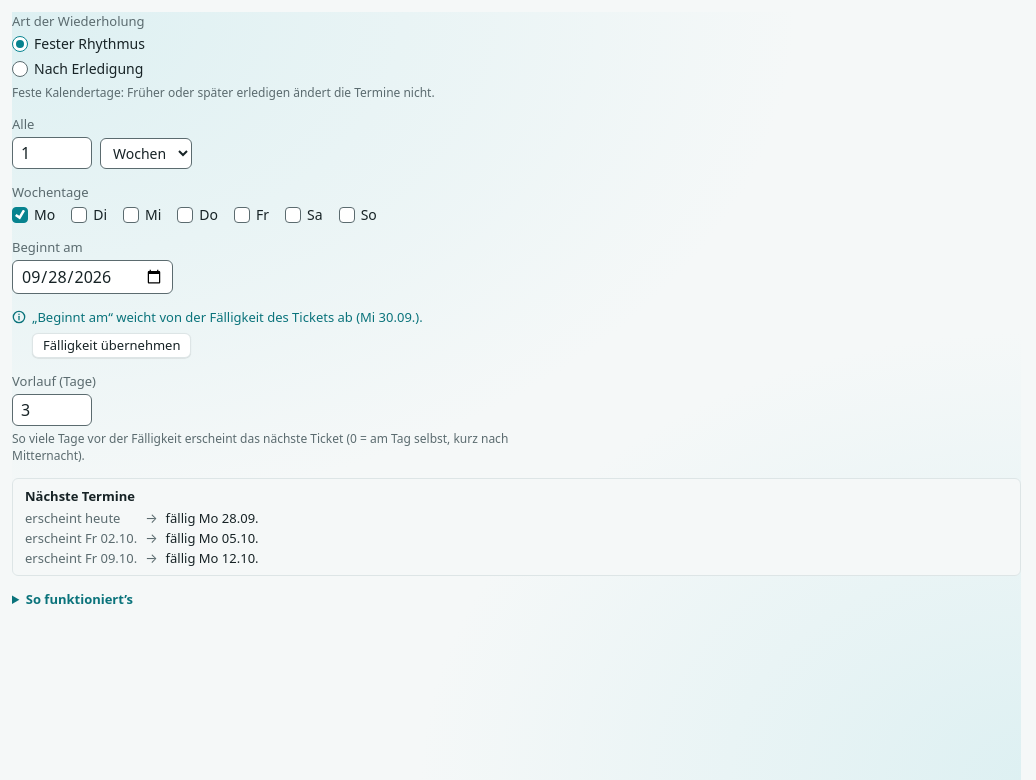
Test: RecurrenceForm: preview from the due date of the ticket (RV-1) › offers nothing after completion at a ticket, where "Beginnt am" is hidden
Expected: the button "Fälligkeit übernehmen" is shown, [32, 333, 192, 358]
What coordinates should you click on to do the following:
click the radio button labelled "Nach Erledigung"
I would click on:
 (20, 68)
Its box is [12, 60, 28, 76].
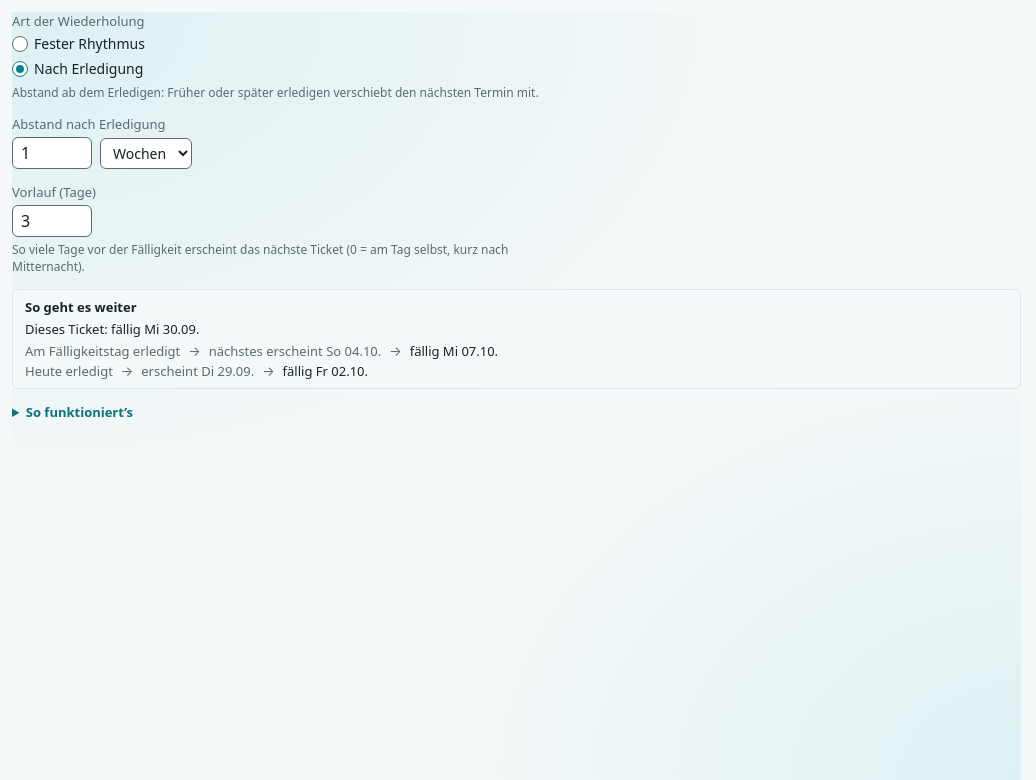
Expected: the button "Fälligkeit übernehmen" is gone
Expected: the label labelled "Beginnt am" is gone
